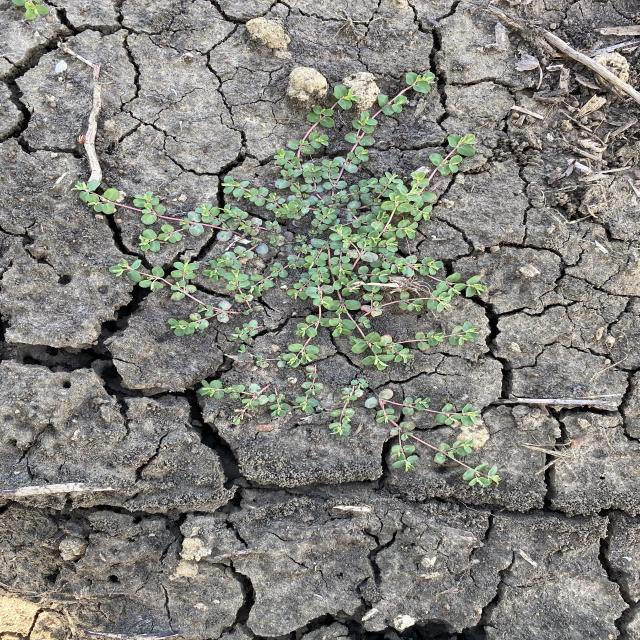SpottedSpurge: (66, 70, 504, 490)
